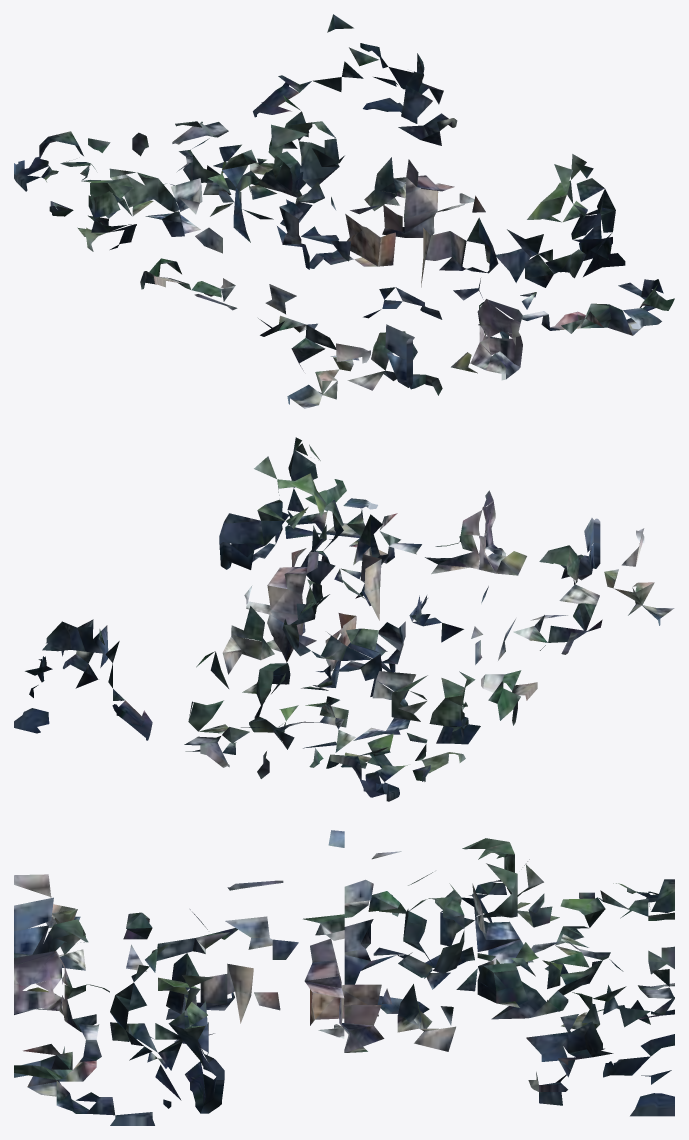
The picture shows the model from 3 angles, top to bottom: view 1: azimuth 30°, elevation 25°; view 2: azimuth 150°, elevation 25°; view 3: azimuth 270°, elevation 25°; orthographic projection. The views are drawn at different scales.
Parts seen in each view (by area): view 1: 3043627270436142453_1; view 2: 3043627270436142453_1; view 3: 3043627270436142453_1.
Part boxes in pixels (x1,y1,x2,y2): 3043627270436142453_1: (14,14,674,408); 3043627270436142453_1: (14,437,674,801); 3043627270436142453_1: (14,830,674,1125).
Bounding box in the file's own units: 54.62 × 19.11 × 76.51.
Materials: 1 (1 with a texture image).
